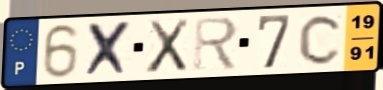6: (40, 22, 82, 80)
7: (255, 14, 292, 71)
C: (297, 12, 346, 67)
R: (192, 15, 241, 72)
X: (83, 19, 136, 79), (144, 17, 192, 76)
